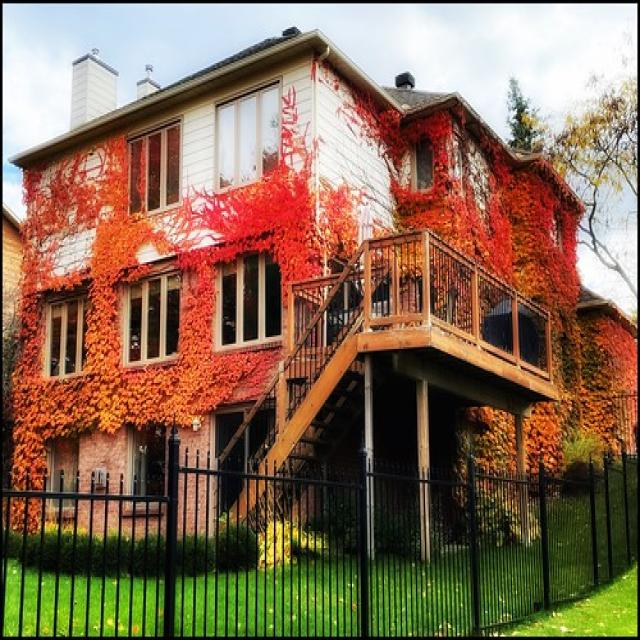building: (4, 25, 635, 608)
